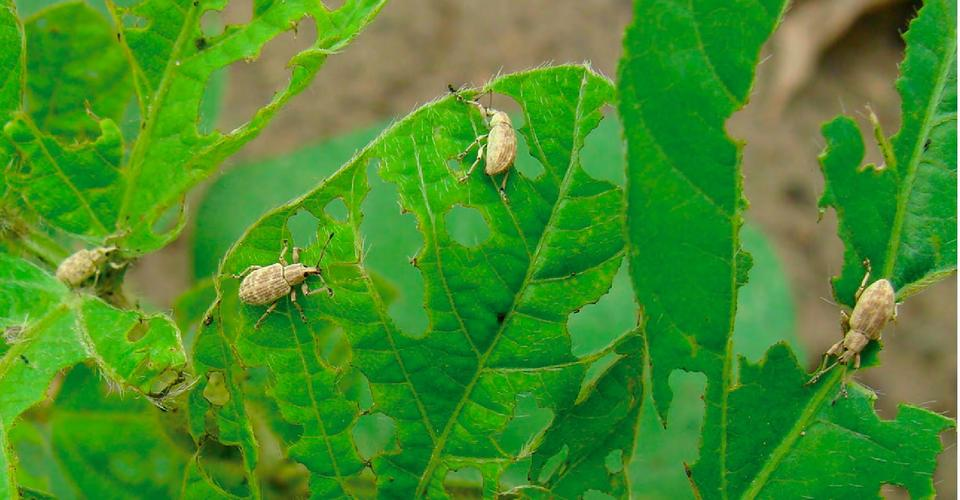Curculionidae: (802, 257, 903, 407), (230, 232, 335, 329), (450, 88, 519, 204), (54, 221, 133, 290)
